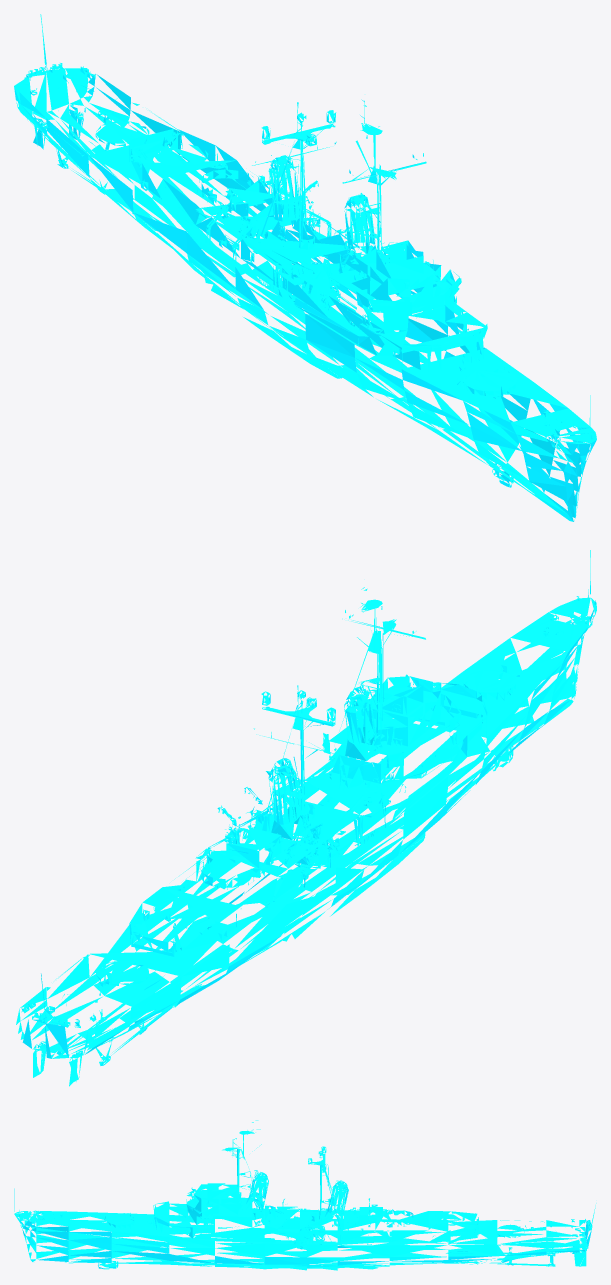
File: Hull.glb
The picture shows the model from 3 angles, top to bottom: view 1: azimuth 30°, elevation 25°; view 2: azimuth 150°, elevation 25°; view 3: azimuth 270°, elevation 25°; orthographic projection. The views are drawn at different scales.
Bounding box in the file's own units: 0.9083 × 2.49 × 8.57.
